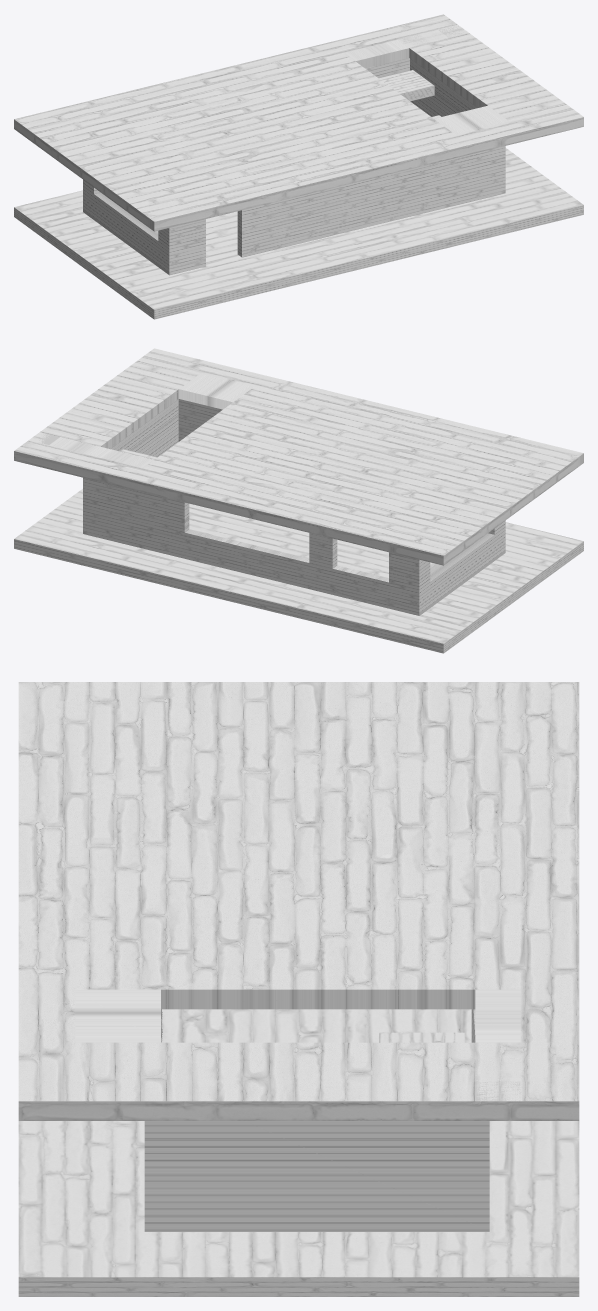
Rendered from Casa 2-2.fbx.
The picture shows the model from 3 angles, top to bottom: view 1: azimuth 30°, elevation 25°; view 2: azimuth 150°, elevation 25°; view 3: azimuth 270°, elevation 25°; orthographic projection. The views are drawn at different scales.
Parts seen in each view (by area): view 1: Techo.001, Suelo.006, Predes2.001, Escalera.008; view 2: Techo.001, Suelo.006, Predes2.001; view 3: Techo.001, Suelo.006, Predes2.001, Escalera.008.
Boxes of the visible parts, x1,y1,x2,y2 form: Techo.001: (14,14,583,231); Suelo.006: (14,148,583,319); Predes2.001: (83,58,505,275); Escalera.008: (379,70,434,101); Techo.001: (14,348,583,565); Suelo.006: (14,489,583,653); Predes2.001: (83,399,505,615); Techo.001: (18,682,579,1120); Suelo.006: (18,1009,579,1296); Predes2.001: (144,1009,489,1231); Escalera.008: (379,1032,465,1042).
Size of the model in its own units: 2300 by 500 by 1300.
